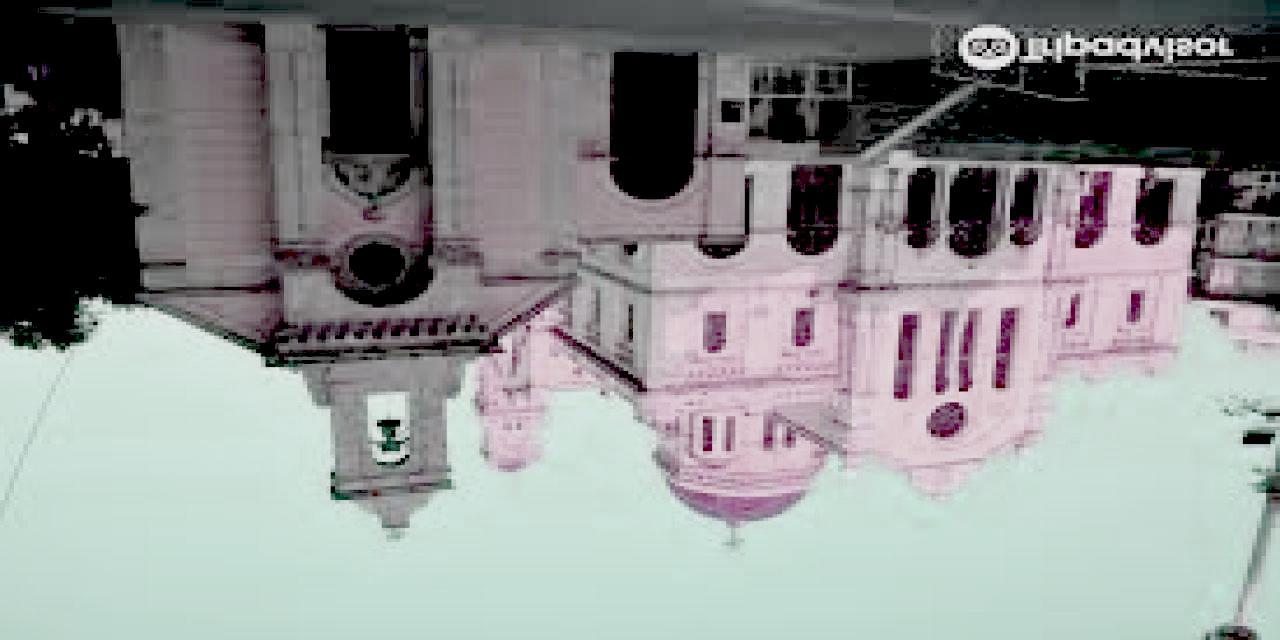Agios Minas: (125, 41, 1207, 535)
